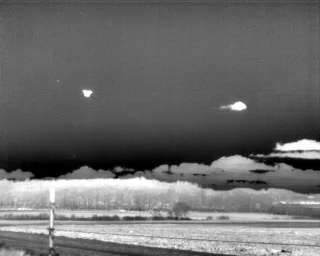DRONE: (79, 85, 97, 102)
